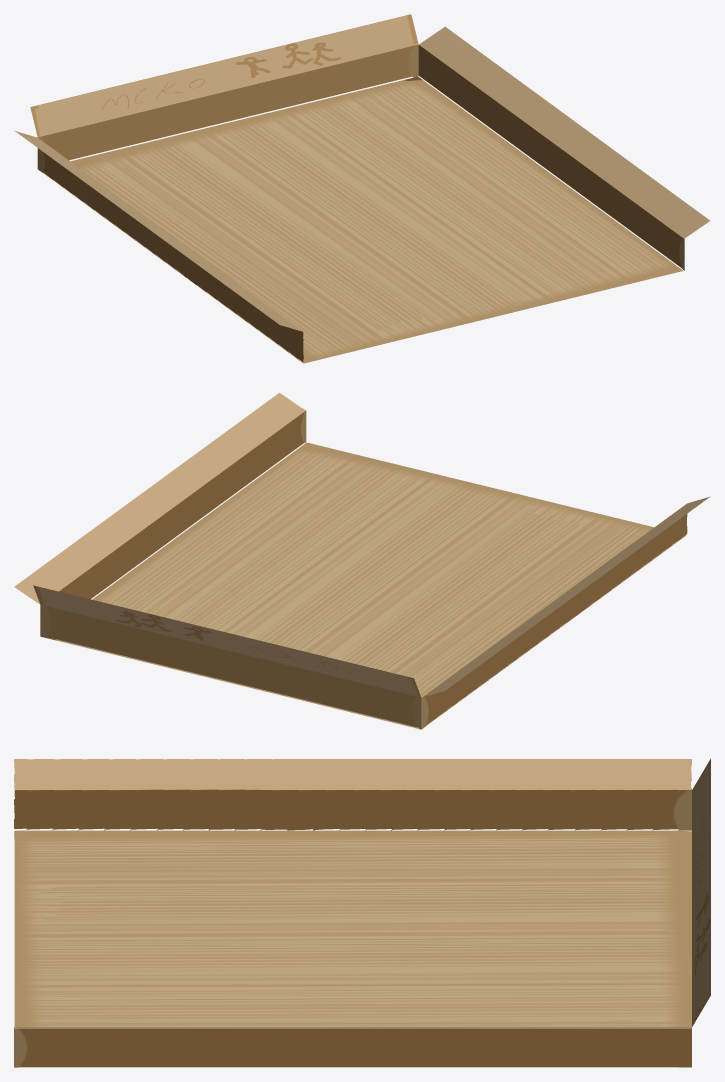
3 views of the same model, one above another, from view 1: azimuth 30°, elevation 25°; view 2: azimuth 150°, elevation 25°; view 3: azimuth 270°, elevation 25° (orthographic). The views are drawn at different scales.
Parts seen in each view (by area): view 1: ID1078; view 2: ID1078; view 3: ID1078.
Boxes of the visible parts, <box> form: ID1078: <box>14,14,709,363</box>; ID1078: <box>14,392,710,729</box>; ID1078: <box>14,758,710,1067</box>.
Bounding box in the file's own units: 25.11 × 3.16 × 27.55.
Materials: 1 (1 with a texture image).
